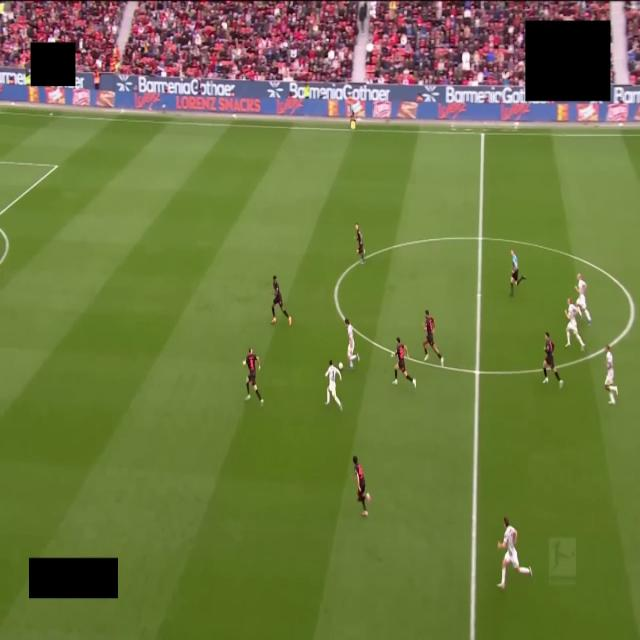ball: (338, 362, 344, 370)
player: (498, 518, 532, 589), (391, 337, 415, 387), (423, 311, 443, 366), (543, 333, 563, 388), (244, 349, 263, 405), (565, 298, 585, 350), (353, 456, 370, 517), (272, 276, 292, 325), (325, 360, 342, 410), (576, 274, 591, 324), (605, 346, 617, 404), (345, 319, 359, 368), (355, 224, 365, 263)
referee: (511, 250, 526, 296)
